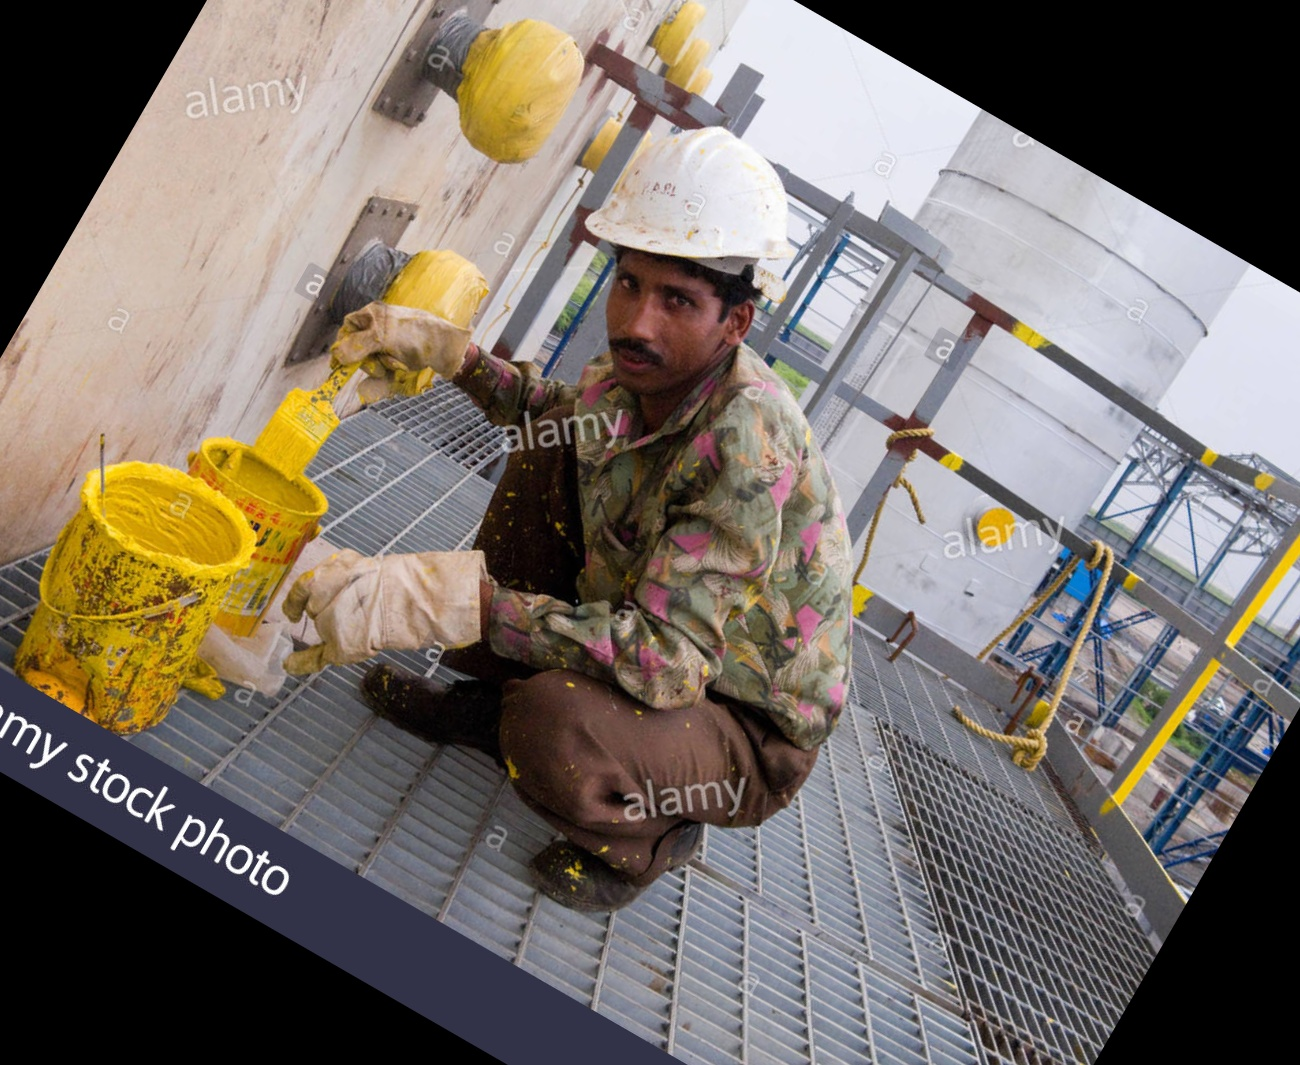NoJacket: (549, 121, 857, 749)
